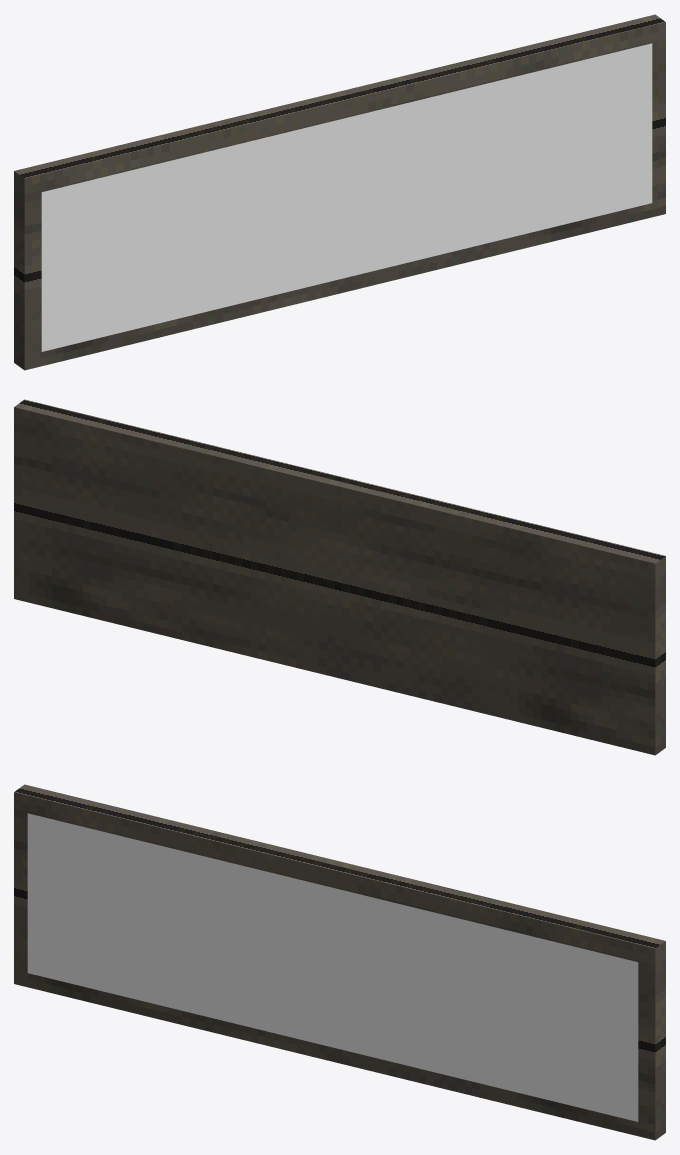
Rendered from letrero.obj.
3 renders of one model, top to bottom at view 1: azimuth 30°, elevation 25°; view 2: azimuth 150°, elevation 25°; view 3: azimuth 330°, elevation 25°, orthographic.
Parts seen in each view (by area): view 1: letrero; view 2: letrero; view 3: letrero.
Boxes of the visible parts, x1=… form: letrero: x1=14, y1=14, x2=665, y2=370; letrero: x1=14, y1=399, x2=665, y2=755; letrero: x1=14, y1=784, x2=665, y2=1140.
Size of the model in its own units: 2.1 by 0.6 by 0.07.
2 materials, 1 textured.
